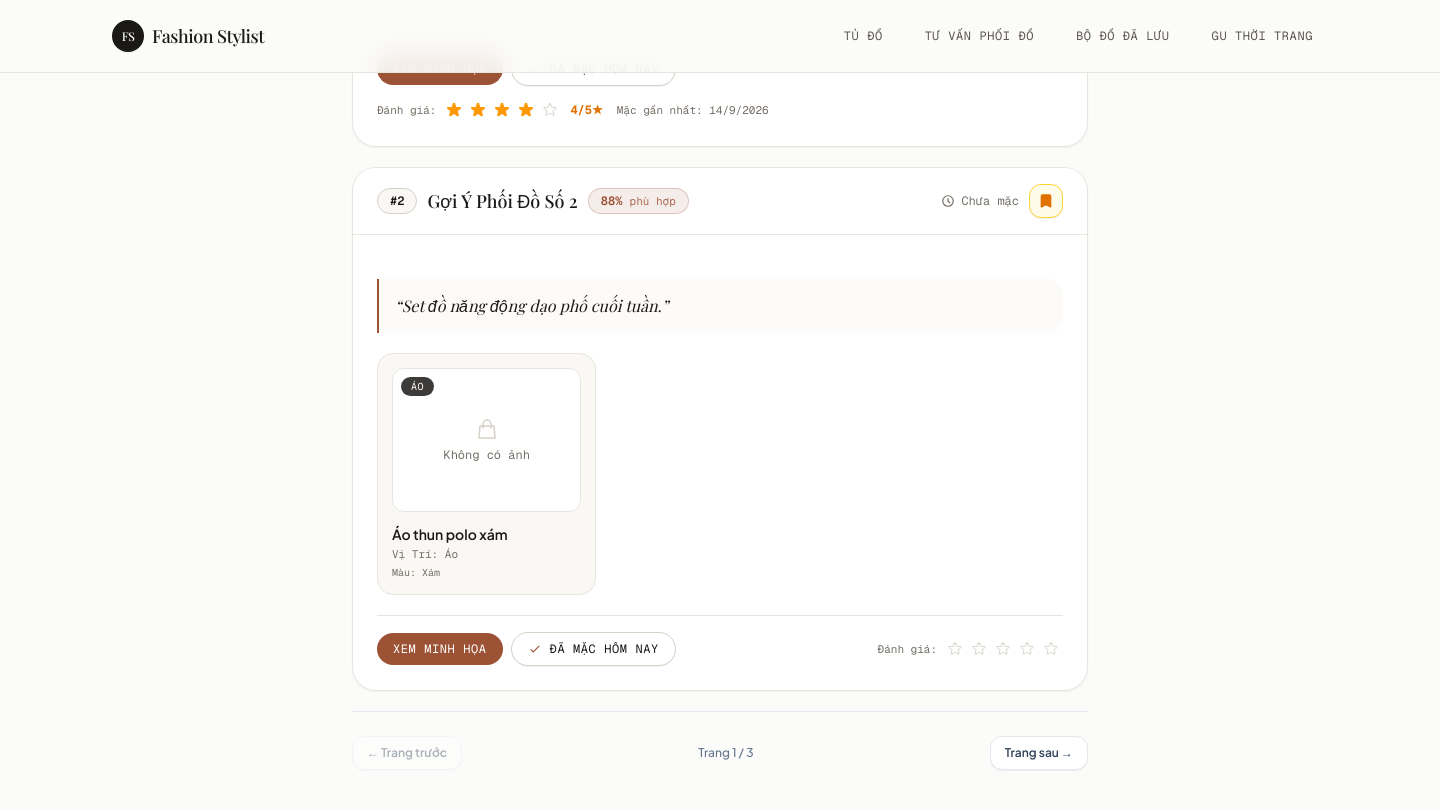
Test: SavedOutfitsPage Integration › renders initial ratings on saved cards and allows rating an outfit with source: "manual"
(page scrolled)
Expected: the text "4/5★" is shown, [570, 102, 603, 118]
Expected: the element with test id "outfit-card" that starts with "Gợi Ý Phối Đồ Số 2" is shown, [352, 167, 1088, 691]
Step 1. Click the 2nd button named "Đánh giá 5 sao" → (1051, 649), box [1039, 637, 1063, 661]
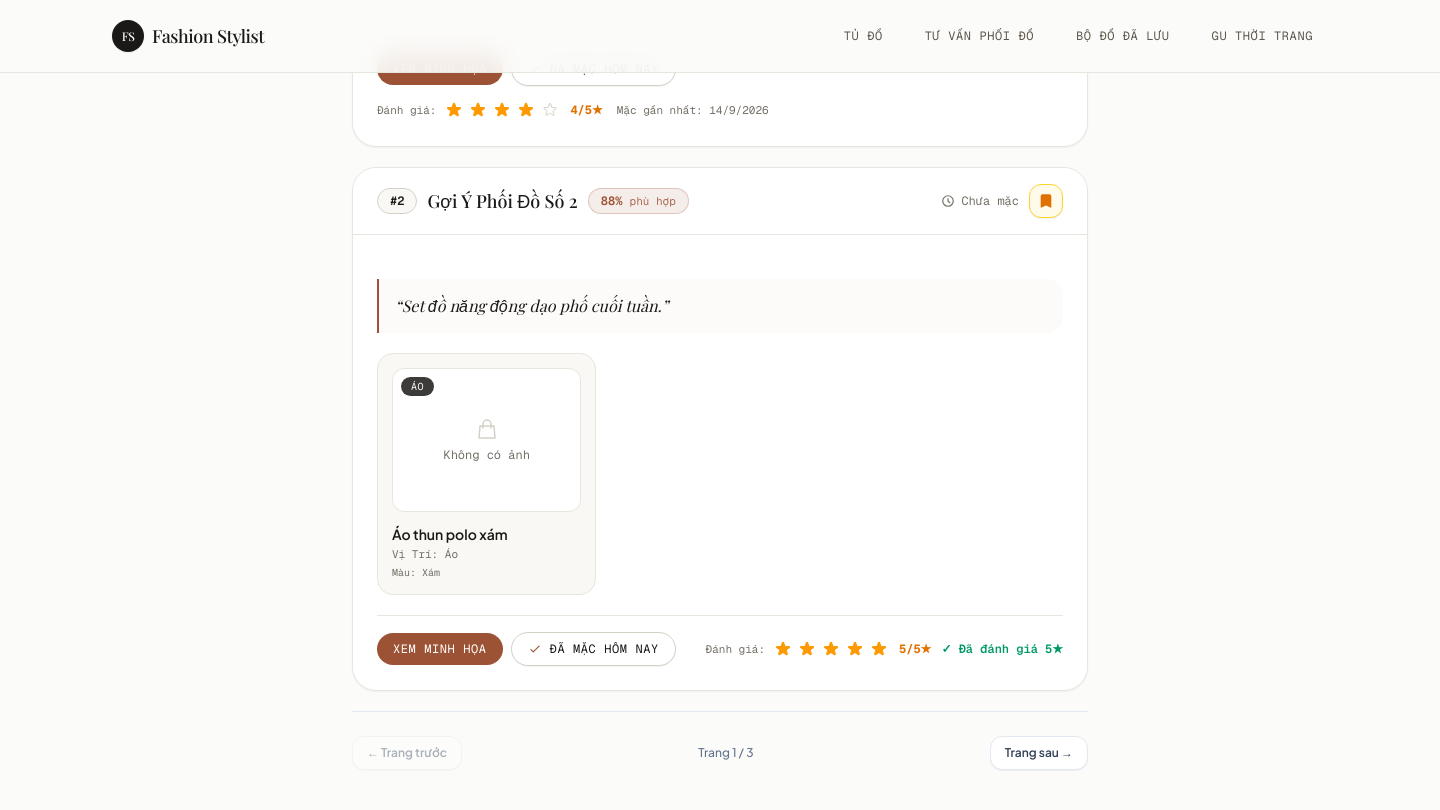
Expected: the text "5/5★" is shown, [899, 641, 931, 657]
